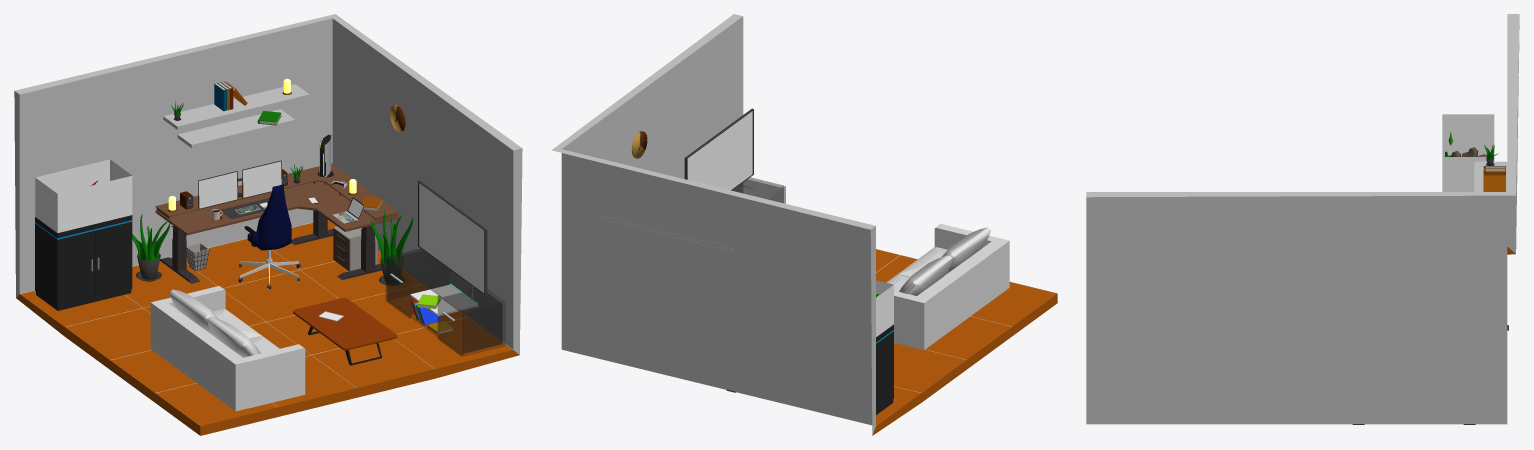
File: portfolio4.glb
The picture shows the model from 3 angles, left to right: view 1: azimuth 30°, elevation 25°; view 2: azimuth 150°, elevation 25°; view 3: azimuth 270°, elevation 25°; orthographic projection. The views are drawn at different scales.
Visible parts, largest first — view 1: Cube.038, Cube.072, Cube.054, aqu, Cube.039, tv-screen, Cube.041, Cube.048, Cube.040, Cube.004, Cube.059, chair (+19 smaller); view 2: Cube.038, Cube.072, tv-screen, Cube.054, aqu, Cube.039, Cube.041, Cube.047; view 3: Cube.038, aqu, Cube.059.
Boxes of the visible parts, bbox=[...] form: Cube.038: bbox=[14, 14, 522, 435]; Cube.072: bbox=[150, 286, 305, 411]; Cube.054: bbox=[35, 215, 132, 310]; aqu: bbox=[35, 159, 132, 233]; Cube.039: bbox=[388, 248, 505, 355]; tv-screen: bbox=[419, 183, 484, 292]; Cube.041: bbox=[438, 289, 501, 356]; Cube.048: bbox=[293, 298, 397, 365]; Cube.040: bbox=[386, 251, 449, 318]; Cube.004: bbox=[160, 210, 382, 283]; Cube.059: bbox=[163, 84, 309, 129]; chair: bbox=[244, 184, 291, 258]; Cube.038: bbox=[552, 14, 1057, 435]; Cube.072: bbox=[886, 224, 1009, 349]; tv-screen: bbox=[687, 111, 752, 190]; Cube.054: bbox=[876, 324, 893, 414]; aqu: bbox=[876, 280, 893, 336]; Cube.039: bbox=[732, 177, 783, 202]; Cube.041: bbox=[733, 180, 785, 203]; Cube.047: bbox=[684, 108, 753, 190]; Cube.038: bbox=[1086, 14, 1519, 424]; aqu: bbox=[1442, 114, 1494, 191]; Cube.059: bbox=[1474, 161, 1507, 191].
Bounding box in the file's own units: 39.05 × 24.22 × 39.05.
